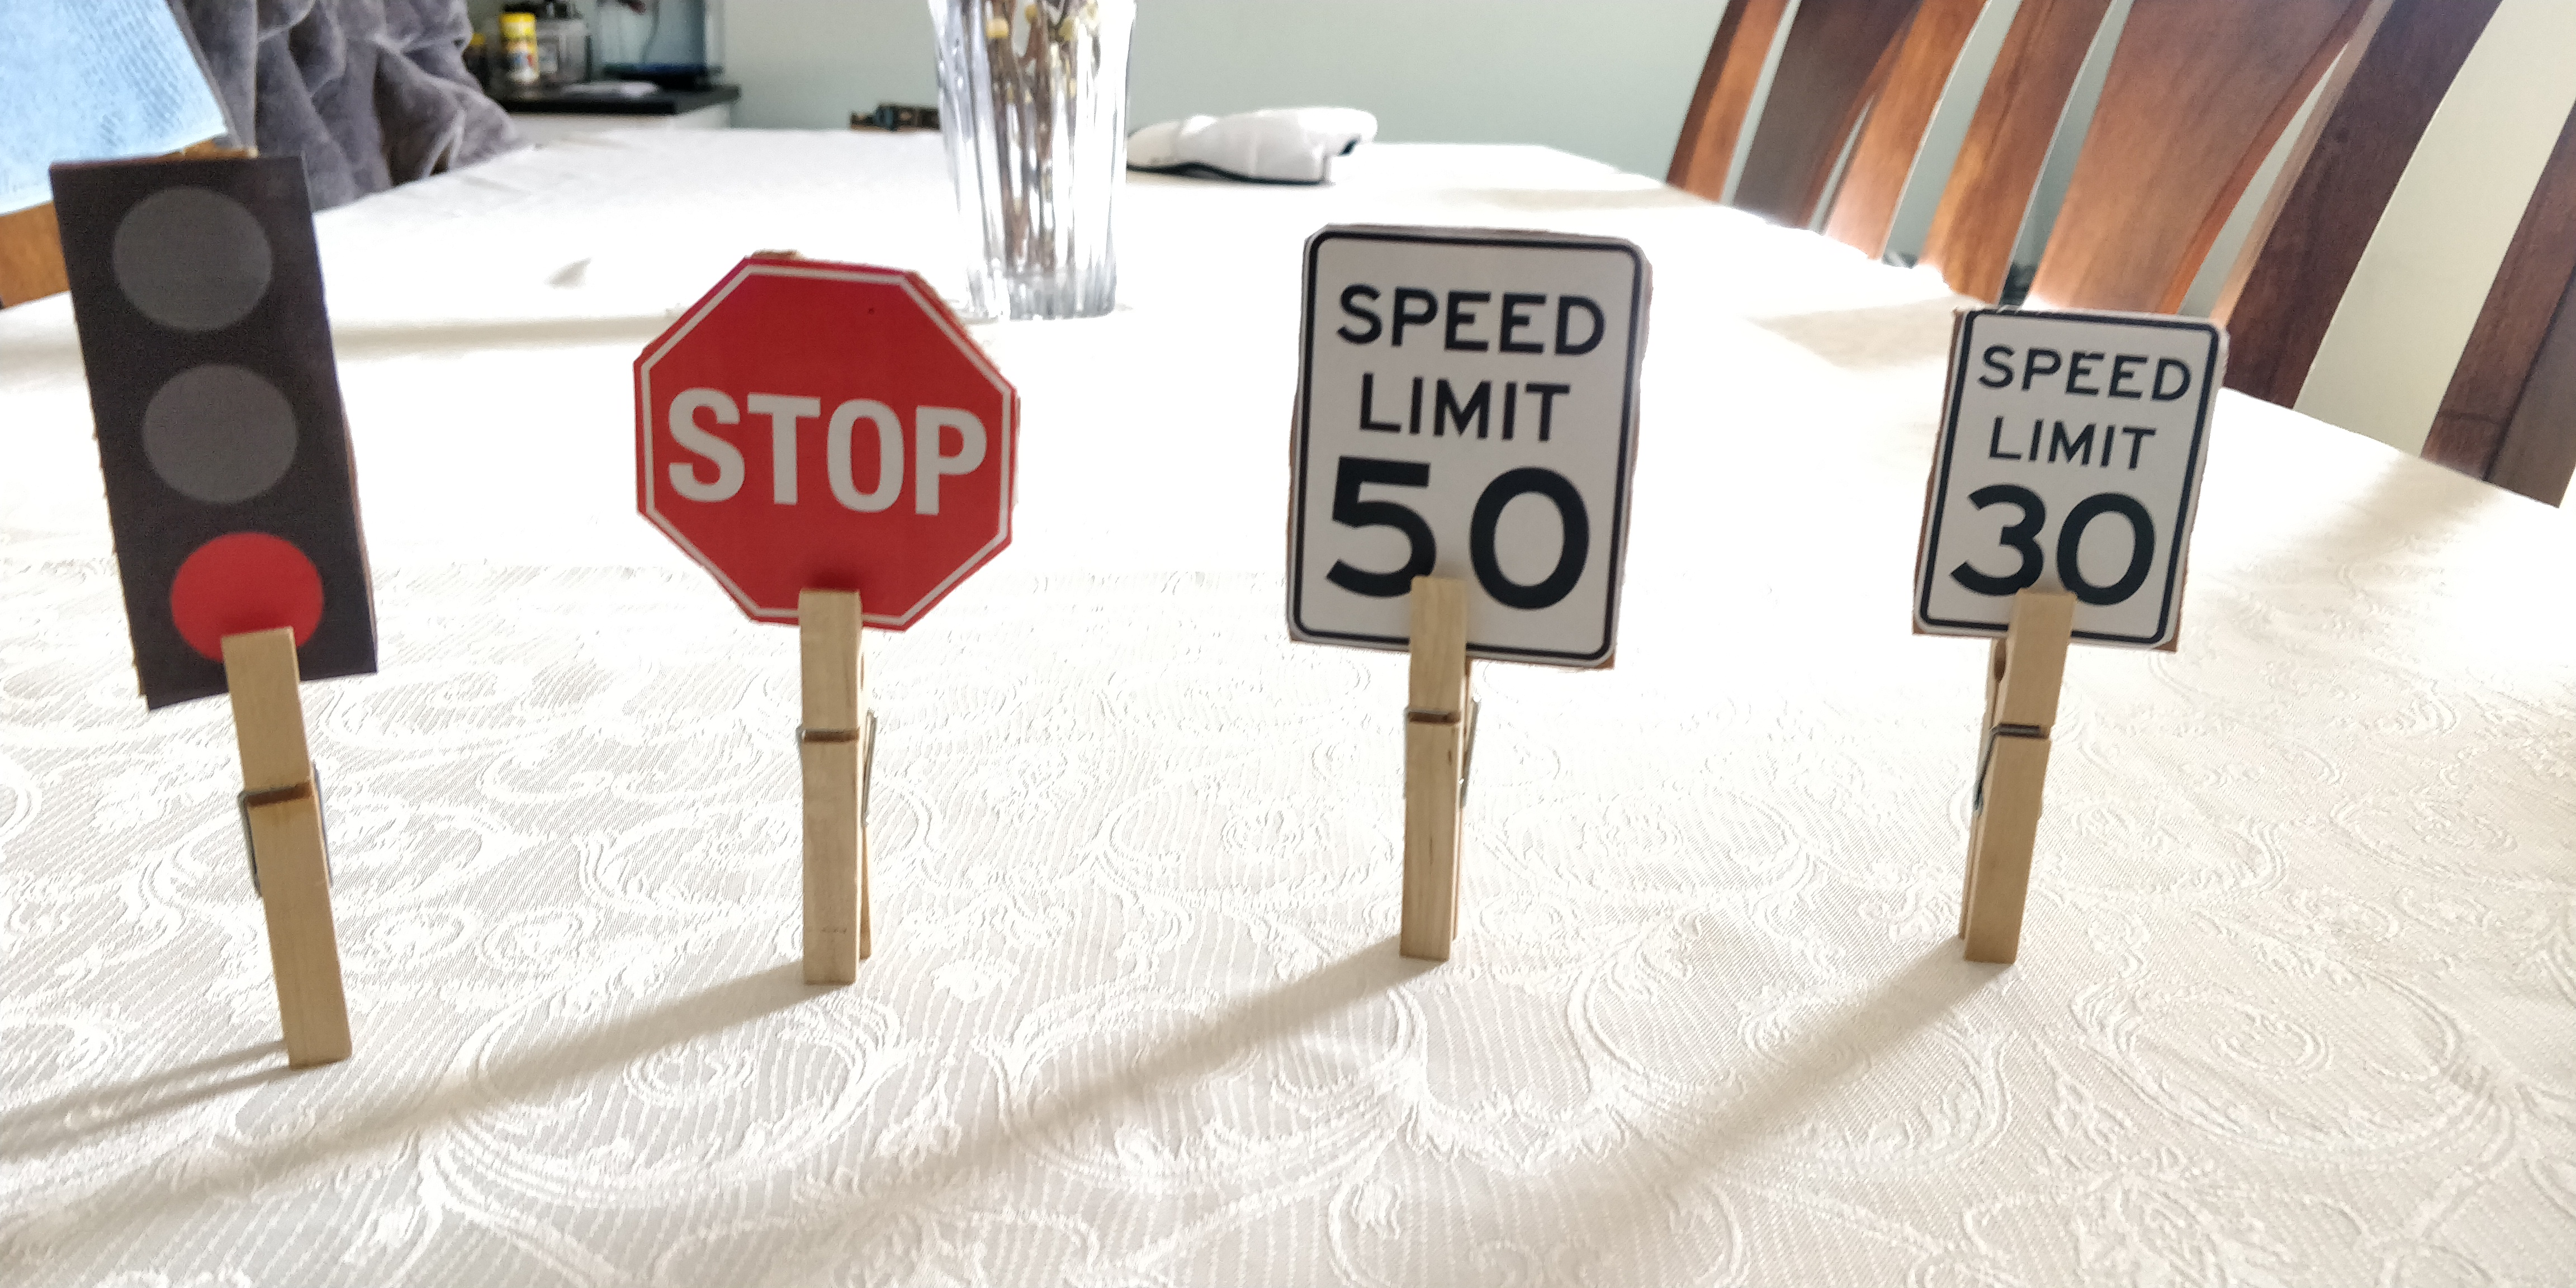Speed Limit 30: (1914, 304, 2228, 654)
Speed Limit 50: (1286, 227, 1651, 667)
Stop Sign: (633, 253, 1020, 624)
red light: (48, 163, 376, 708)
